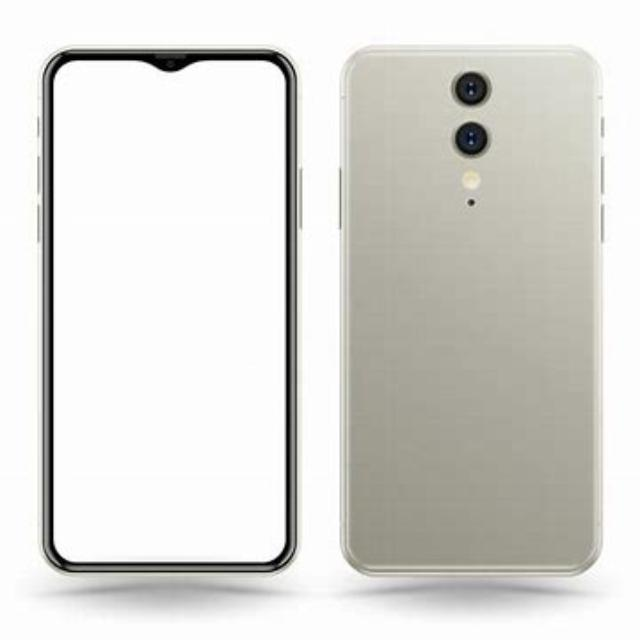Smartphone: (32, 46, 293, 576)
